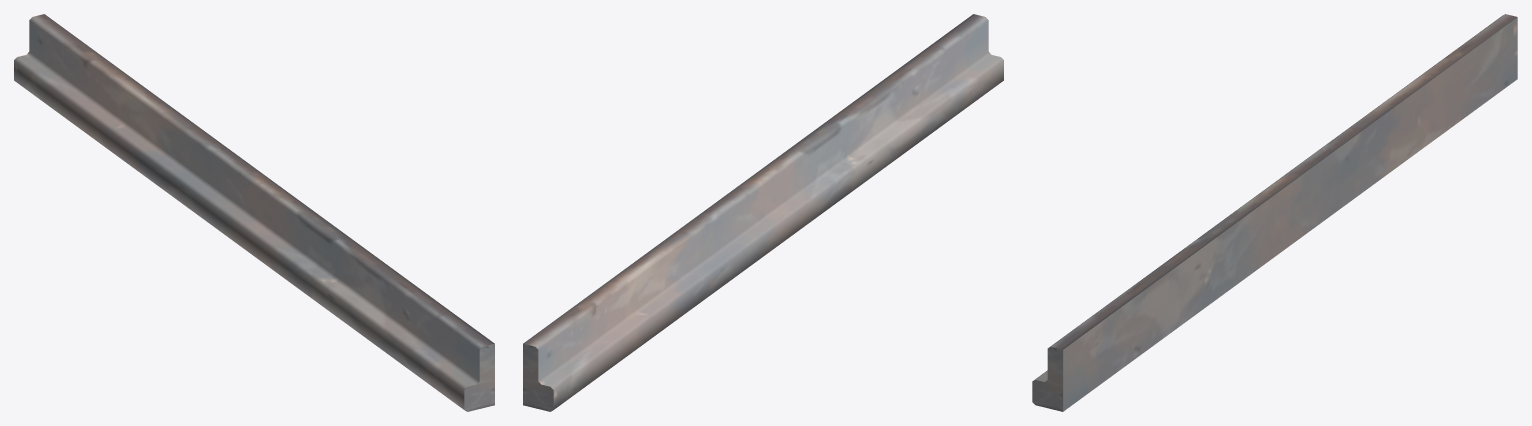
The model's file is wall_Line_01_a.fbx.
The picture shows the model from 3 angles, left to right: view 1: azimuth 30°, elevation 25°; view 2: azimuth 150°, elevation 25°; view 3: azimuth 330°, elevation 25°; orthographic projection.
Parts seen in each view (by area): view 1: wall_06; view 2: wall_06; view 3: wall_06.
Part boxes in pixels (x1=…): wall_06: x1=14, y1=14, x2=494, y2=411; wall_06: x1=523, y1=14, x2=1003, y2=411; wall_06: x1=1032, y1=14, x2=1517, y2=411.
Size of the model in its own units: 20 by 38.62 by 512.
1 material, 1 textured.
